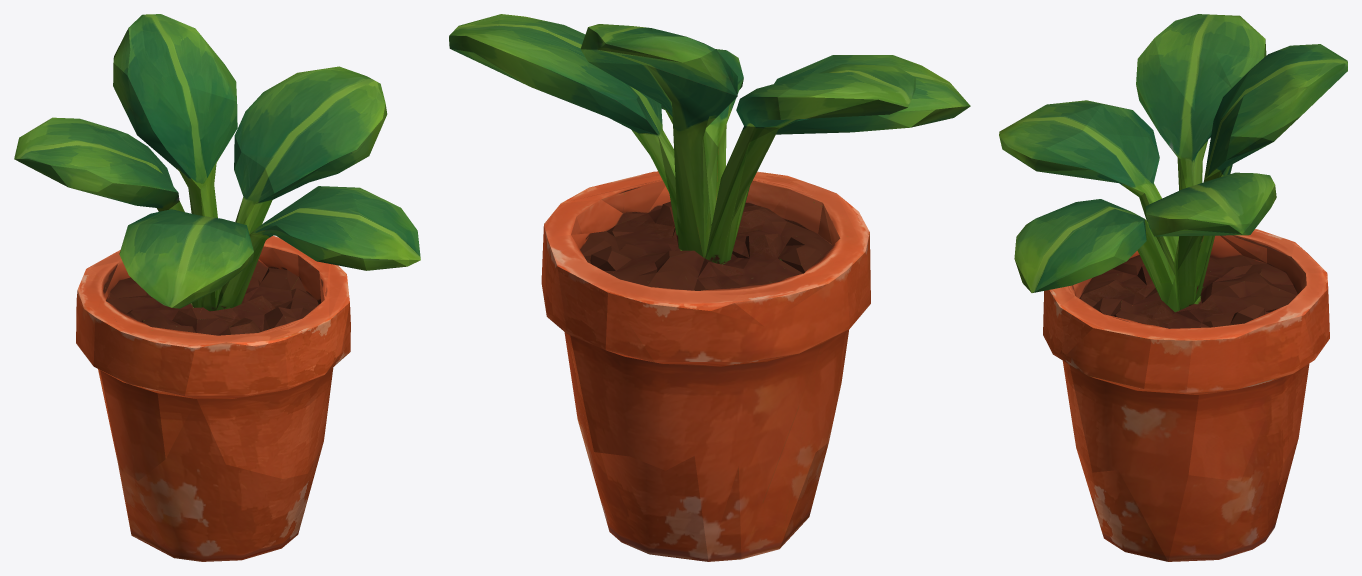
Rendered from potted_tropical_plant_800tri.glb.
The picture shows the model from 3 angles, left to right: view 1: azimuth 30°, elevation 25°; view 2: azimuth 150°, elevation 25°; view 3: azimuth 270°, elevation 25°; orthographic projection. The views are drawn at different scales.
Visible parts, largest first — view 1: output_unwrapped; view 2: output_unwrapped; view 3: output_unwrapped.
Part boxes in pixels (left/top/right/bottom): output_unwrapped: left=14, top=14, right=420, bottom=561; output_unwrapped: left=449, top=14, right=970, bottom=561; output_unwrapped: left=999, top=14, right=1347, bottom=561.
Size of the model in its own units: 1.62 by 1.89 by 1.27.
Materials: 1 (1 with a texture image).
